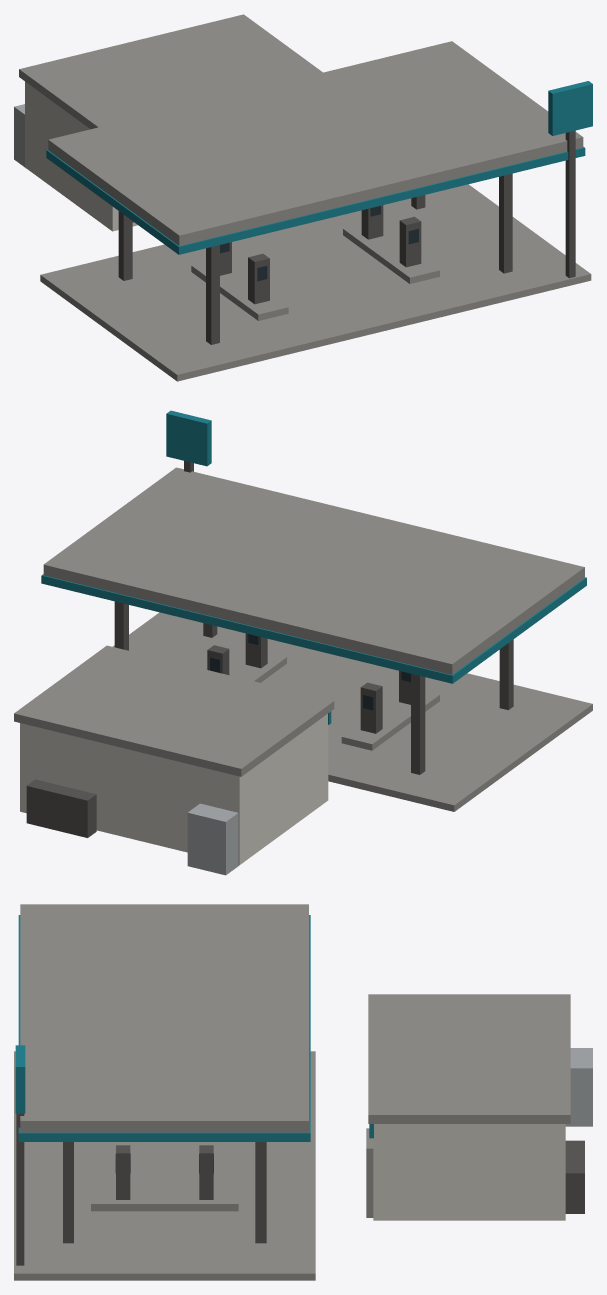
The model's file is Scenery_FillingStation.fbx.
3 views of the same model, one above another, from view 1: azimuth 30°, elevation 25°; view 2: azimuth 150°, elevation 25°; view 3: azimuth 270°, elevation 25° (orthographic). The views are drawn at different scales.
Parts seen in each view (by area): view 1: Scenery_FillingStation_LOD0; view 2: Scenery_FillingStation_LOD0; view 3: Scenery_FillingStation_LOD0.
Boxes of the visible parts, x1,y1,x2,y2 form: Scenery_FillingStation_LOD0: (14, 14, 592, 381); Scenery_FillingStation_LOD0: (14, 410, 592, 875); Scenery_FillingStation_LOD0: (14, 904, 592, 1280).
Size of what is drawn, in the model's own units: 16.5 by 7.4 by 18.05.
